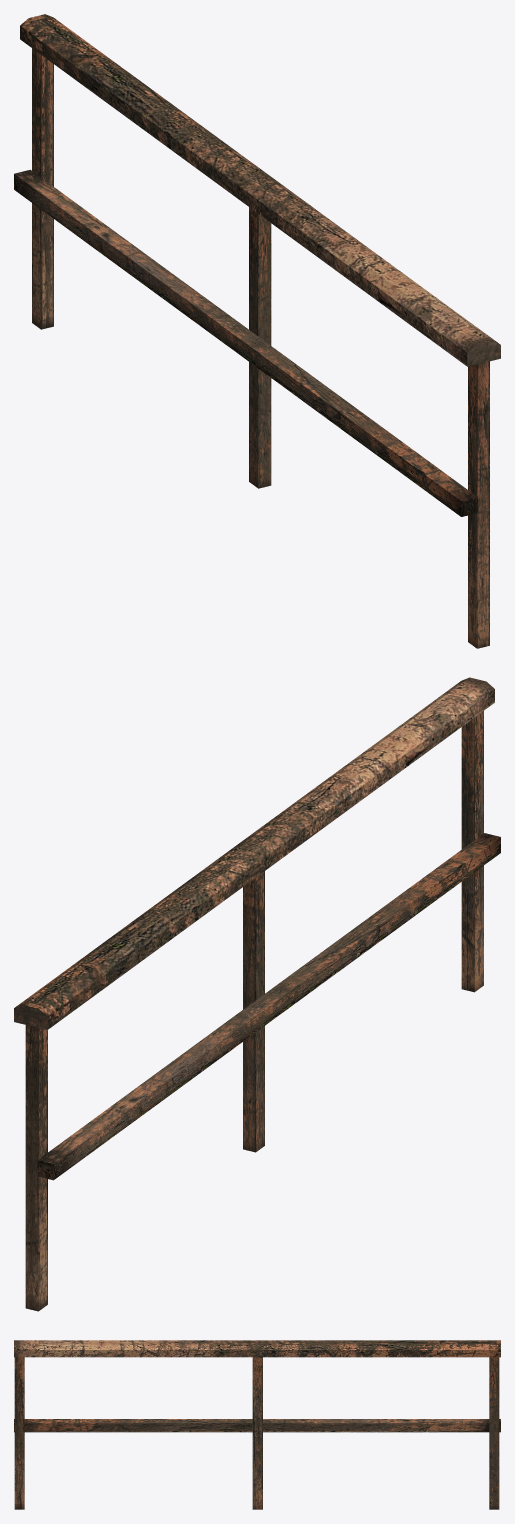
Rendered from factory_stairs_02.DAE.
3 renders of one model, top to bottom at view 1: azimuth 30°, elevation 25°; view 2: azimuth 150°, elevation 25°; view 3: azimuth 270°, elevation 25°, orthographic. The views are drawn at different scales.
Parts seen in each view (by area): view 1: Box077; view 2: Box077; view 3: Box077.
Boxes of the visible parts, left/top/right/bottom form: Box077: left=14, top=14, right=500, bottom=648; Box077: left=14, top=677, right=500, bottom=1311; Box077: left=14, top=1340, right=500, bottom=1509.
Bounding box in the file's own units: 0.2045 × 1.5 × 4.
